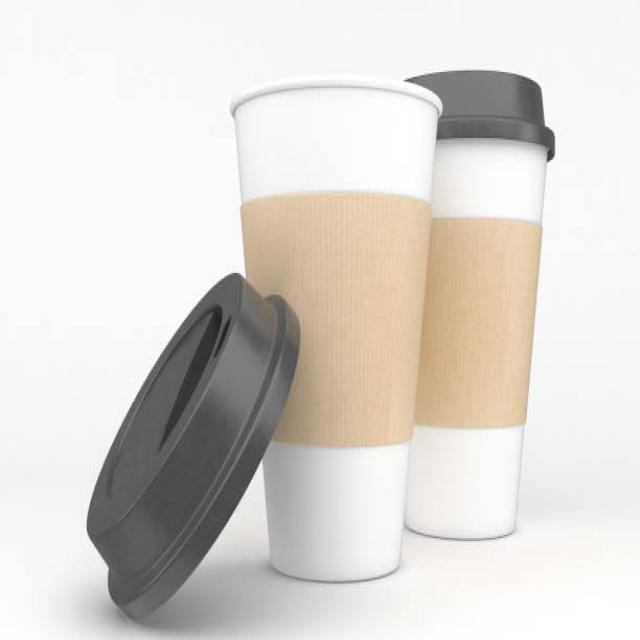cup: (230, 71, 443, 585), (402, 68, 556, 542)
